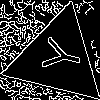Y: (32, 33, 84, 77)
